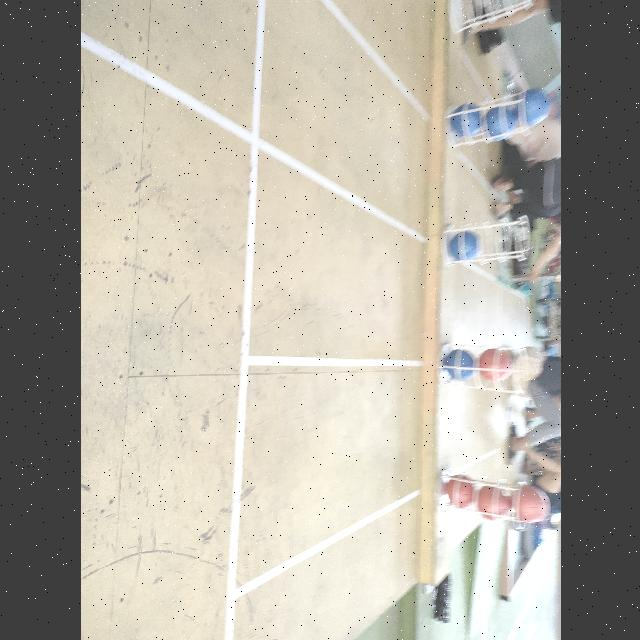B: (513, 86, 551, 125), (482, 107, 516, 141), (446, 232, 482, 264), (448, 102, 478, 138), (444, 351, 476, 382)
R: (509, 487, 547, 525), (474, 345, 510, 381), (474, 487, 508, 521), (442, 474, 474, 508)
